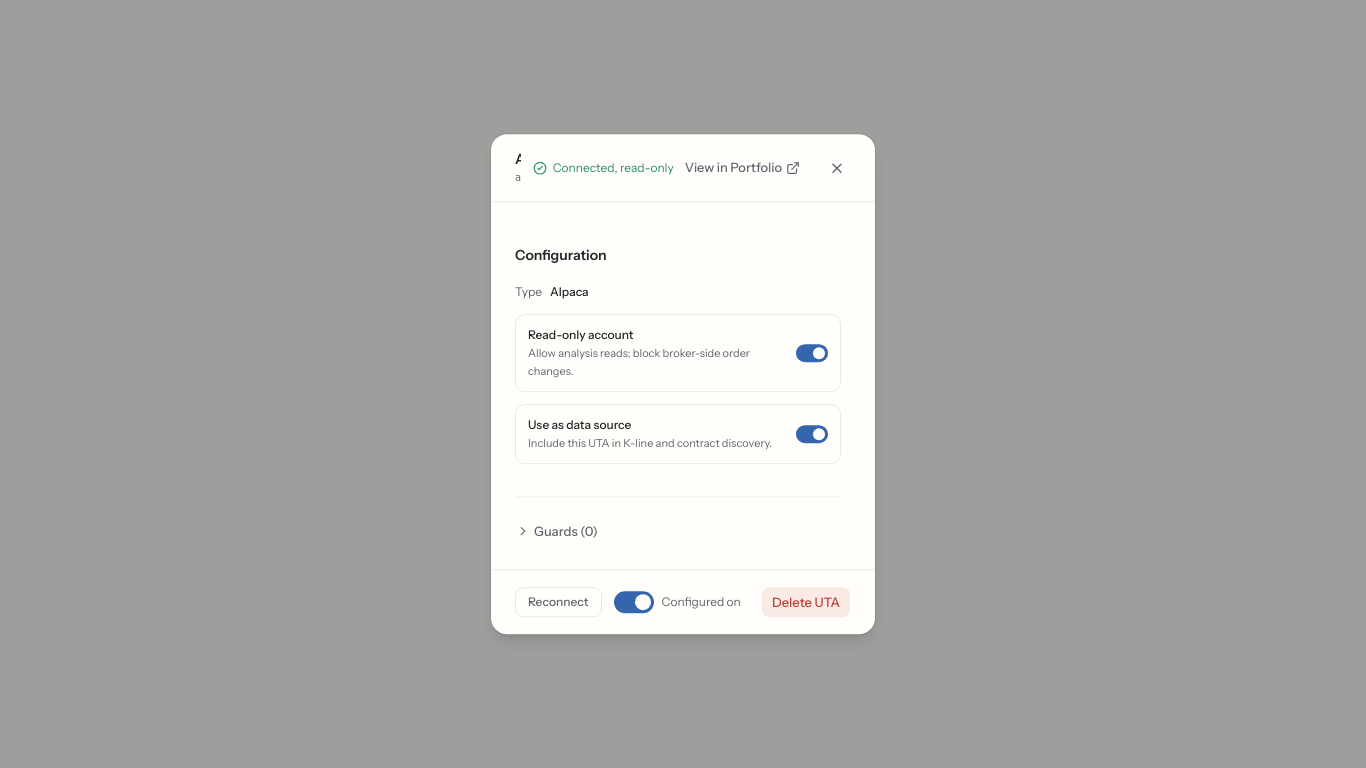
EditUTADialog compact layout › keeps identity and every footer action in wrapping mobile-safe regions
The image size is (1366, 768).
Expected: the button "View in Portfolio" is shown, [674,154,811,182]
Click the switch named "Read-only account".
click(812, 353)  # box [792,333,832,373]
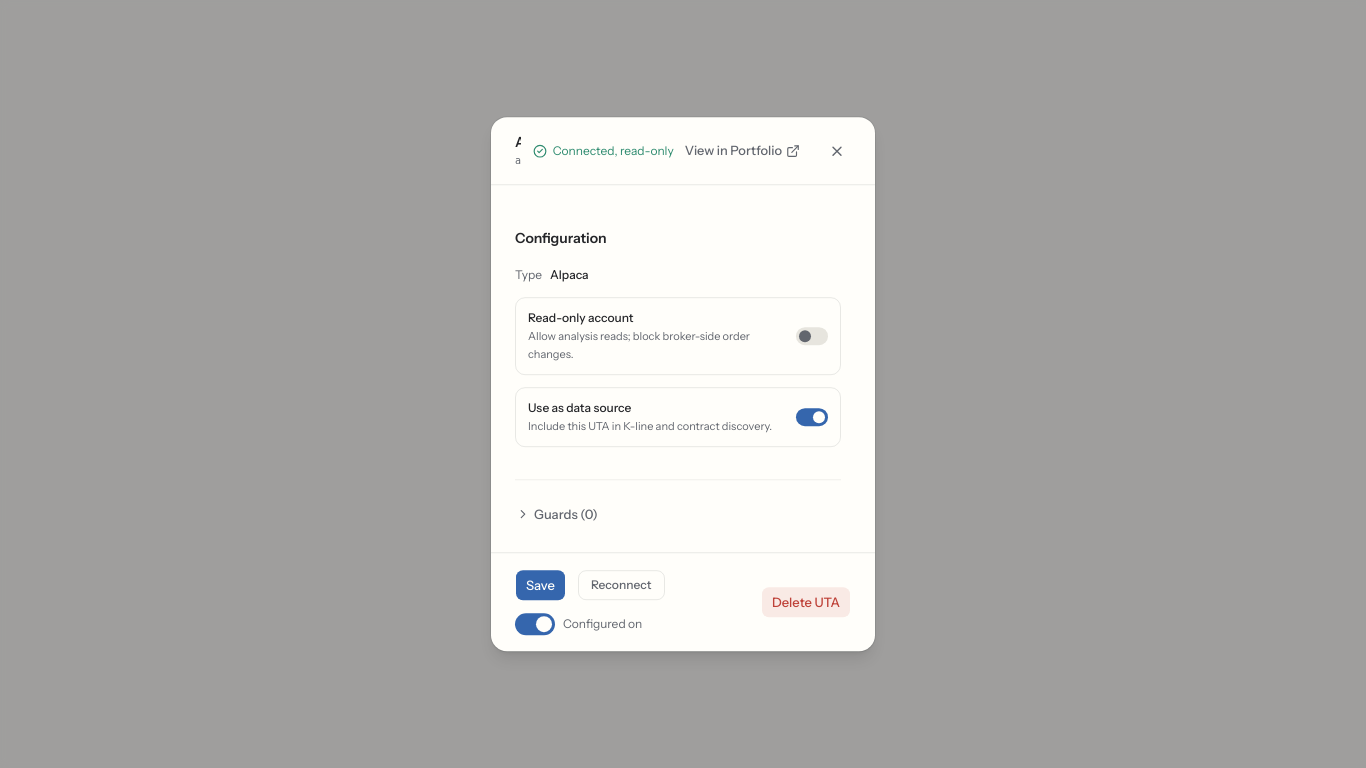
Result: the button "Save" is shown at [515,569,566,601]
Click the button "Delete UTA".
click(806, 602)  # box [761,586,851,618]
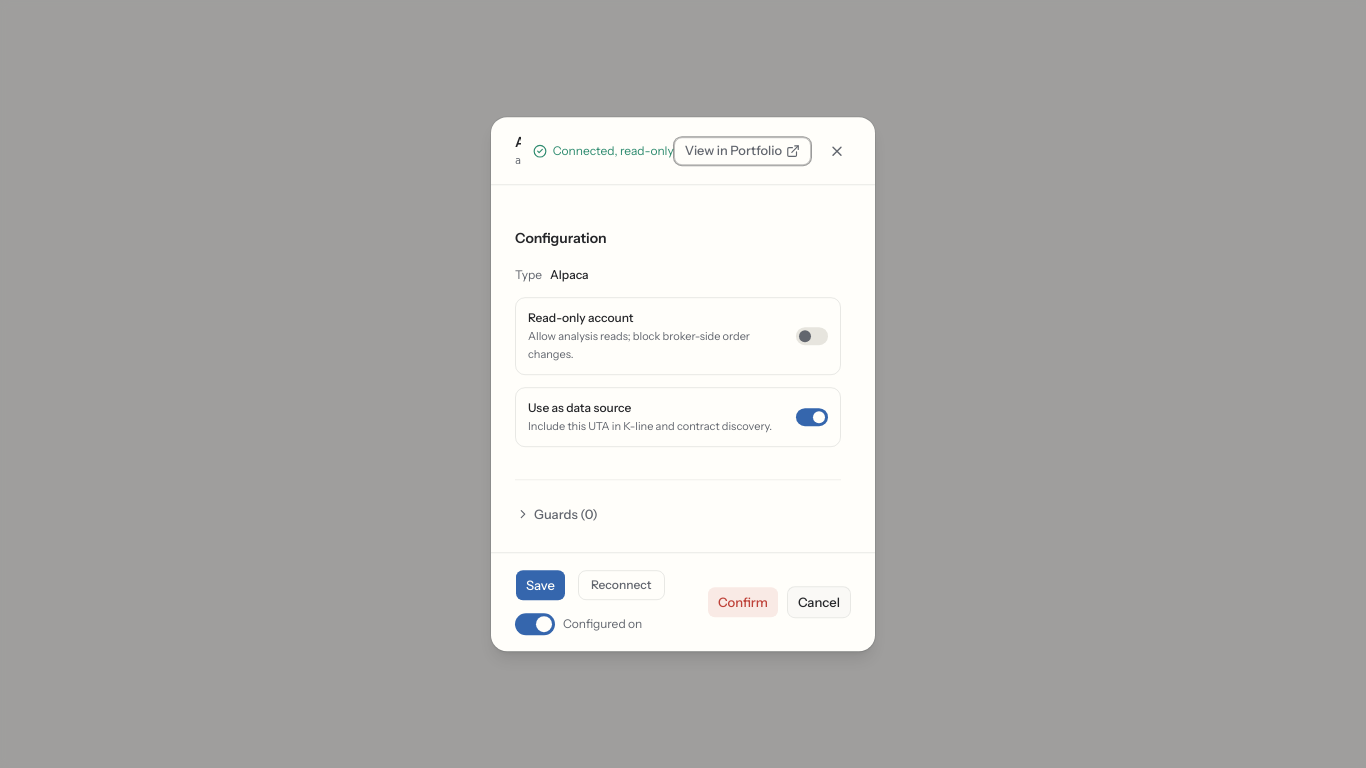
Result: the button "Confirm" is shown at [707,586,779,618]
Result: the button "Cancel" is shown at [787,586,851,618]
